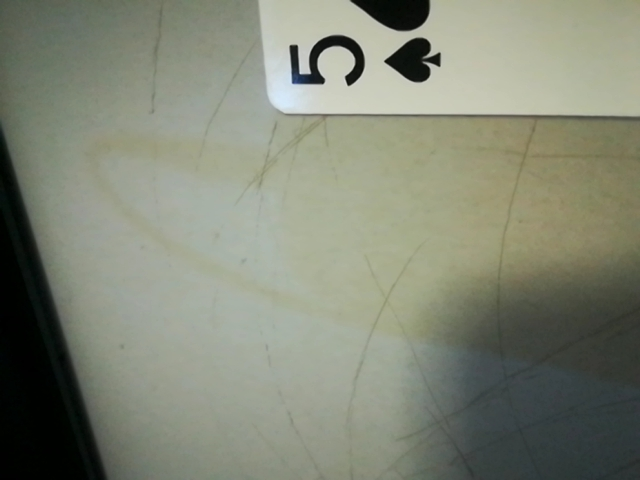ht 5: (276, 17, 451, 106)
